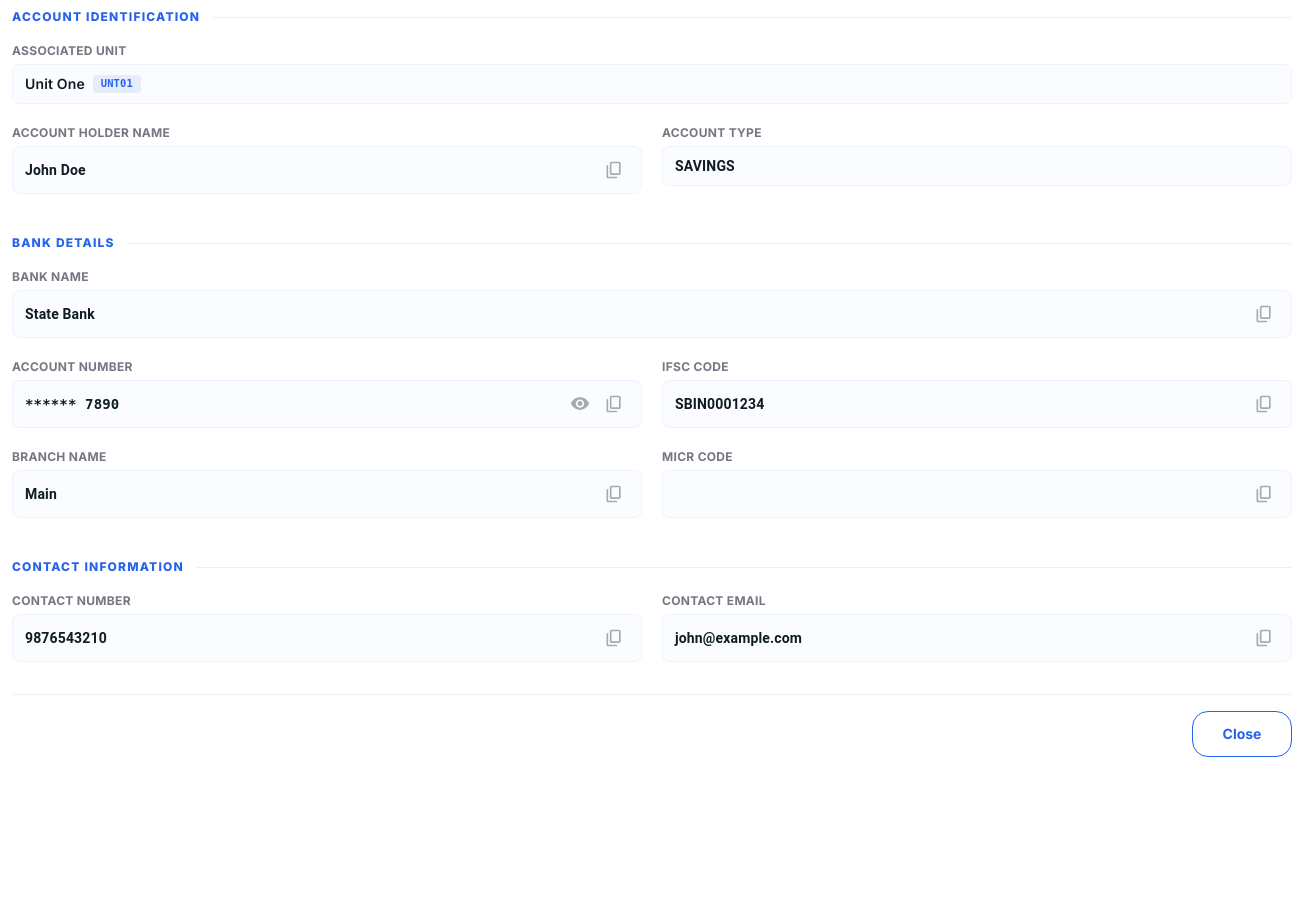
Test: BankForm › masks and unmasks account number in view mode
This screenshot has width=1304, height=900.
Expected: the text "****** 7890" is shown, [25,394,119,414]
Expected: the text "1234567890" is not shown
Click the button named "Show".
click(580, 404)  # box [565,389,595,419]
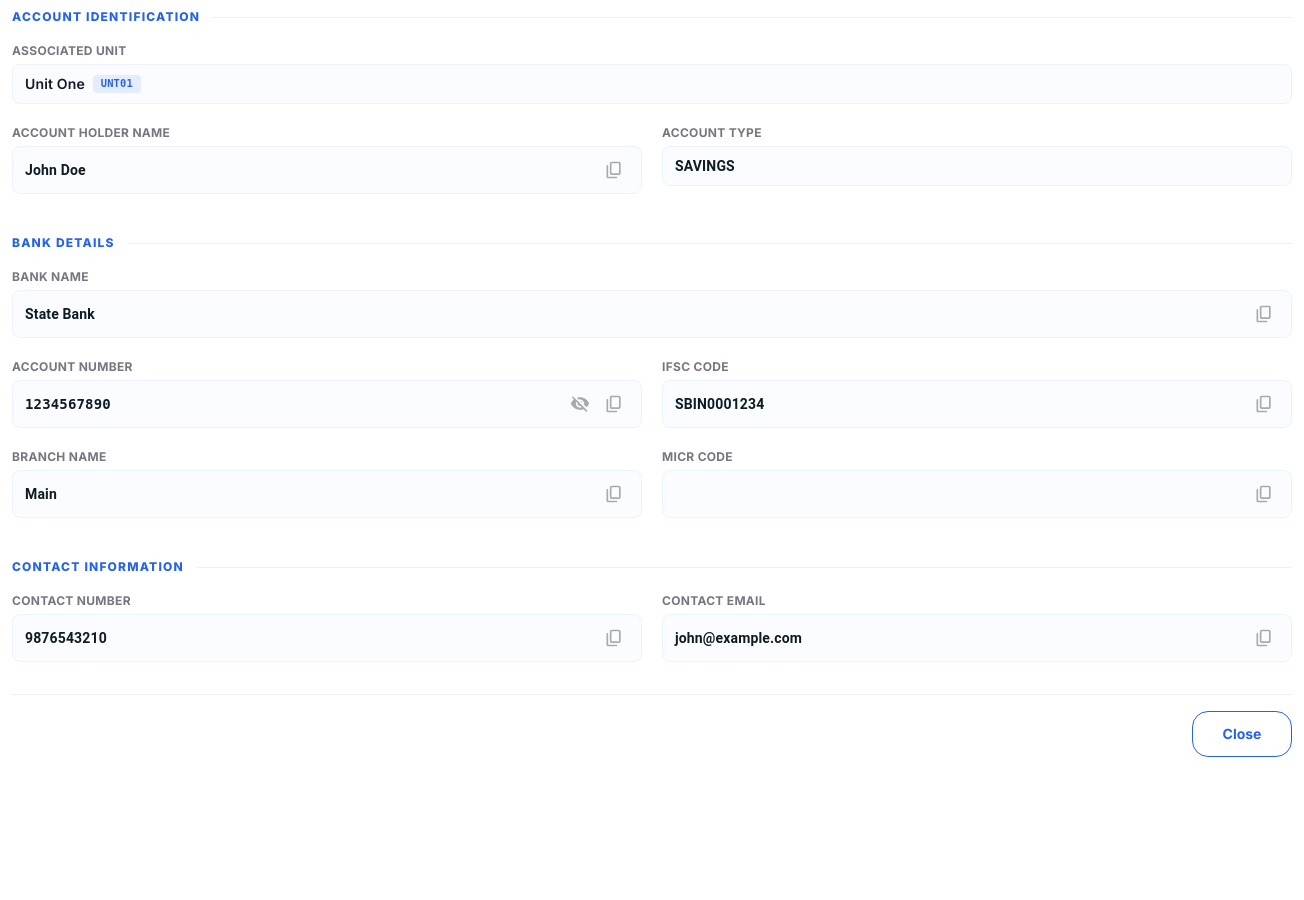
Now the text "1234567890" is shown, box [25,394,111,414]
